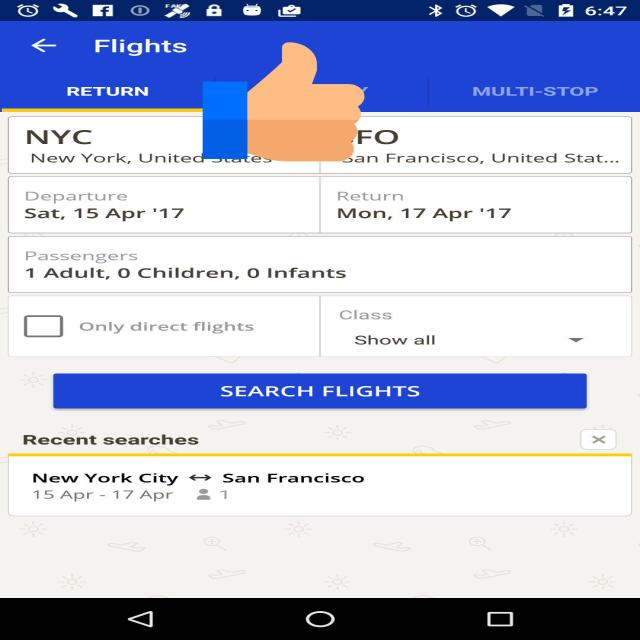privacy zuckering: (202, 39, 364, 164)
